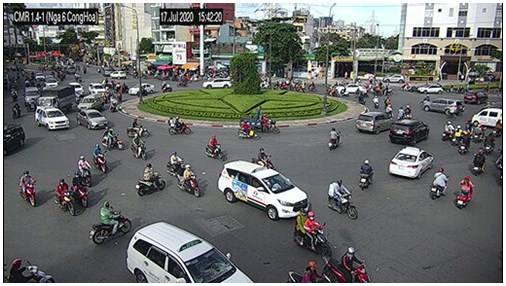xe_hoi: (126, 221, 255, 283), (218, 160, 310, 221), (386, 145, 434, 180), (390, 119, 428, 146), (357, 112, 393, 135), (35, 106, 69, 130), (423, 98, 463, 117), (76, 109, 108, 130), (4, 125, 25, 154), (464, 91, 491, 107), (202, 77, 233, 90), (128, 81, 153, 95), (418, 83, 446, 95), (69, 81, 85, 96), (345, 84, 367, 93), (88, 83, 106, 94), (384, 74, 405, 83), (44, 77, 58, 87), (109, 71, 128, 78)
xe_khach: (471, 109, 504, 129), (23, 87, 39, 105)
xe_may: (88, 201, 132, 244), (294, 208, 331, 258), (324, 247, 371, 283), (3, 259, 55, 283), (328, 179, 357, 221), (135, 164, 166, 197), (287, 261, 332, 283), (177, 164, 201, 197), (54, 180, 75, 216), (19, 170, 37, 208), (73, 171, 89, 206), (429, 167, 447, 198), (102, 125, 123, 151), (129, 133, 148, 161), (168, 114, 192, 136), (457, 175, 473, 208), (205, 135, 225, 160), (166, 152, 185, 178), (360, 158, 375, 190), (92, 144, 108, 173), (127, 117, 149, 138), (78, 155, 92, 186), (238, 120, 259, 140), (254, 147, 272, 169), (327, 127, 341, 150), (473, 148, 485, 174), (442, 121, 453, 144), (453, 124, 465, 145), (484, 130, 494, 154), (461, 131, 470, 156), (10, 103, 22, 121), (403, 104, 415, 121), (475, 122, 484, 142), (109, 94, 118, 114), (177, 75, 189, 88), (395, 106, 405, 121), (327, 85, 338, 97), (385, 103, 394, 116), (358, 91, 366, 104), (339, 85, 347, 97), (373, 95, 380, 108), (162, 82, 172, 91), (307, 81, 316, 91), (11, 89, 18, 101), (277, 82, 288, 89), (383, 96, 390, 105)
